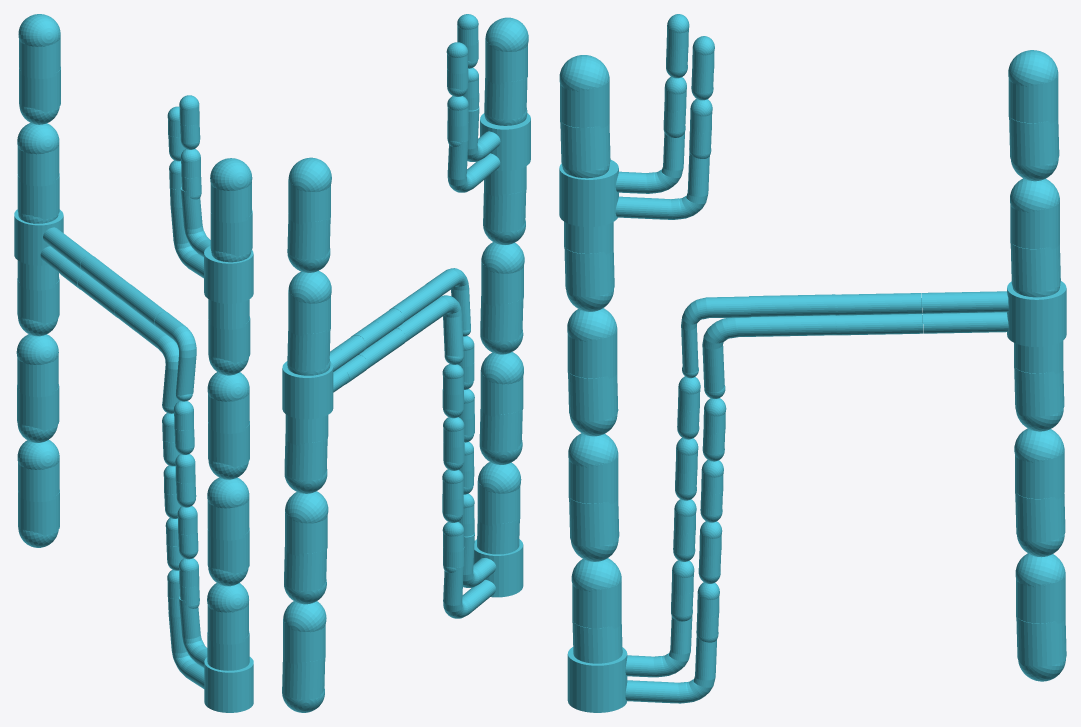
Rendered from canos.fbx.
3 renders of one model, left to right at view 1: azimuth 30°, elevation 25°; view 2: azimuth 150°, elevation 25°; view 3: azimuth 270°, elevation 25°, orthographic. The views are drawn at different scales.
Parts seen in each view (by area): view 1: Cilindro.017; view 2: Cilindro.017; view 3: Cilindro.017.
Boxes of the visible parts, x1,y1,x2,y2 form: Cilindro.017: (14,14,253,712); Cilindro.017: (282,14,530,712); Cilindro.017: (559,14,1066,712).
Bounding box in the file's own units: 266 × 3206 × 2152.
